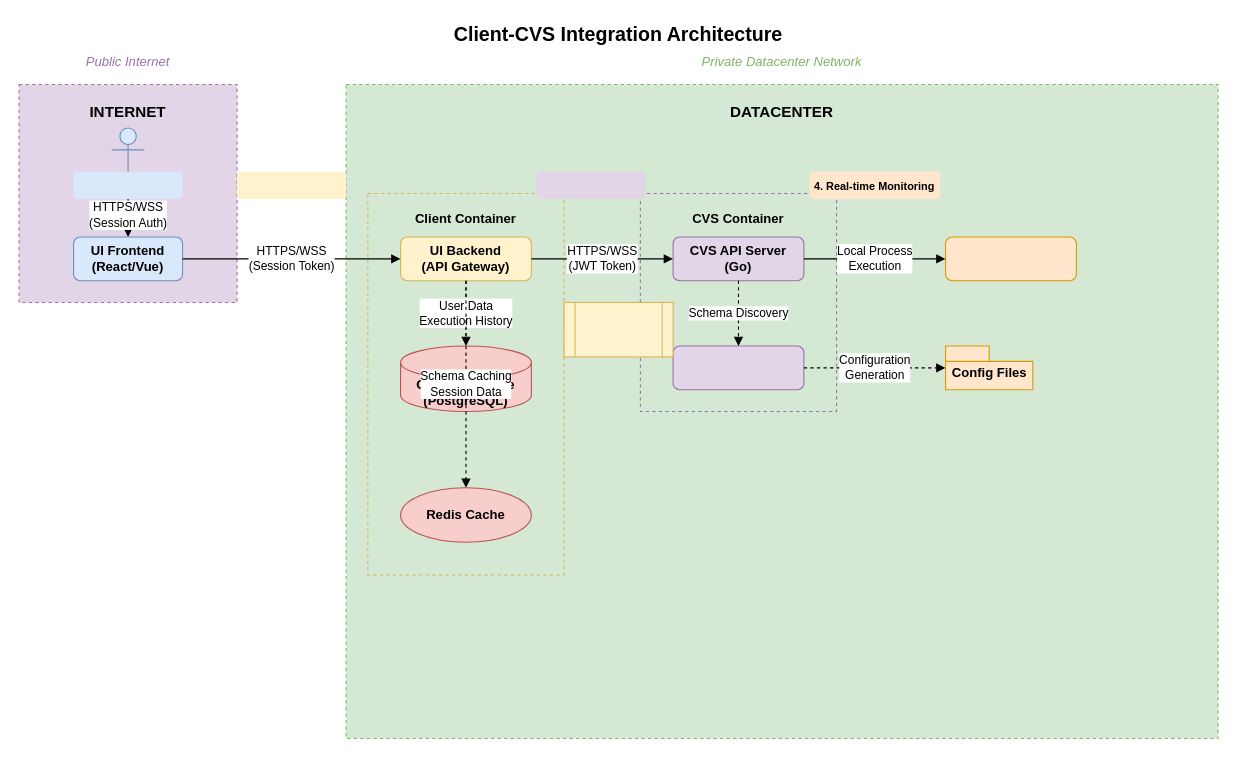
Image size: 1237x758. Some labels were removed from this diagram. The shapes that lost their labels are listed below. From the top down, each one's box as (x1, y1, x2, y2) in pixels, then its label:
(73, 171, 182, 198): 2. Form Generation
(237, 171, 346, 198): 1. Schema Discovery
(536, 171, 645, 198): 3. Test Execution
(944, 236, 1076, 281): Python CVS CLI
(563, 301, 673, 357): WebSocket Proxy Real-time Updates
(672, 345, 804, 390): Schema Registry
